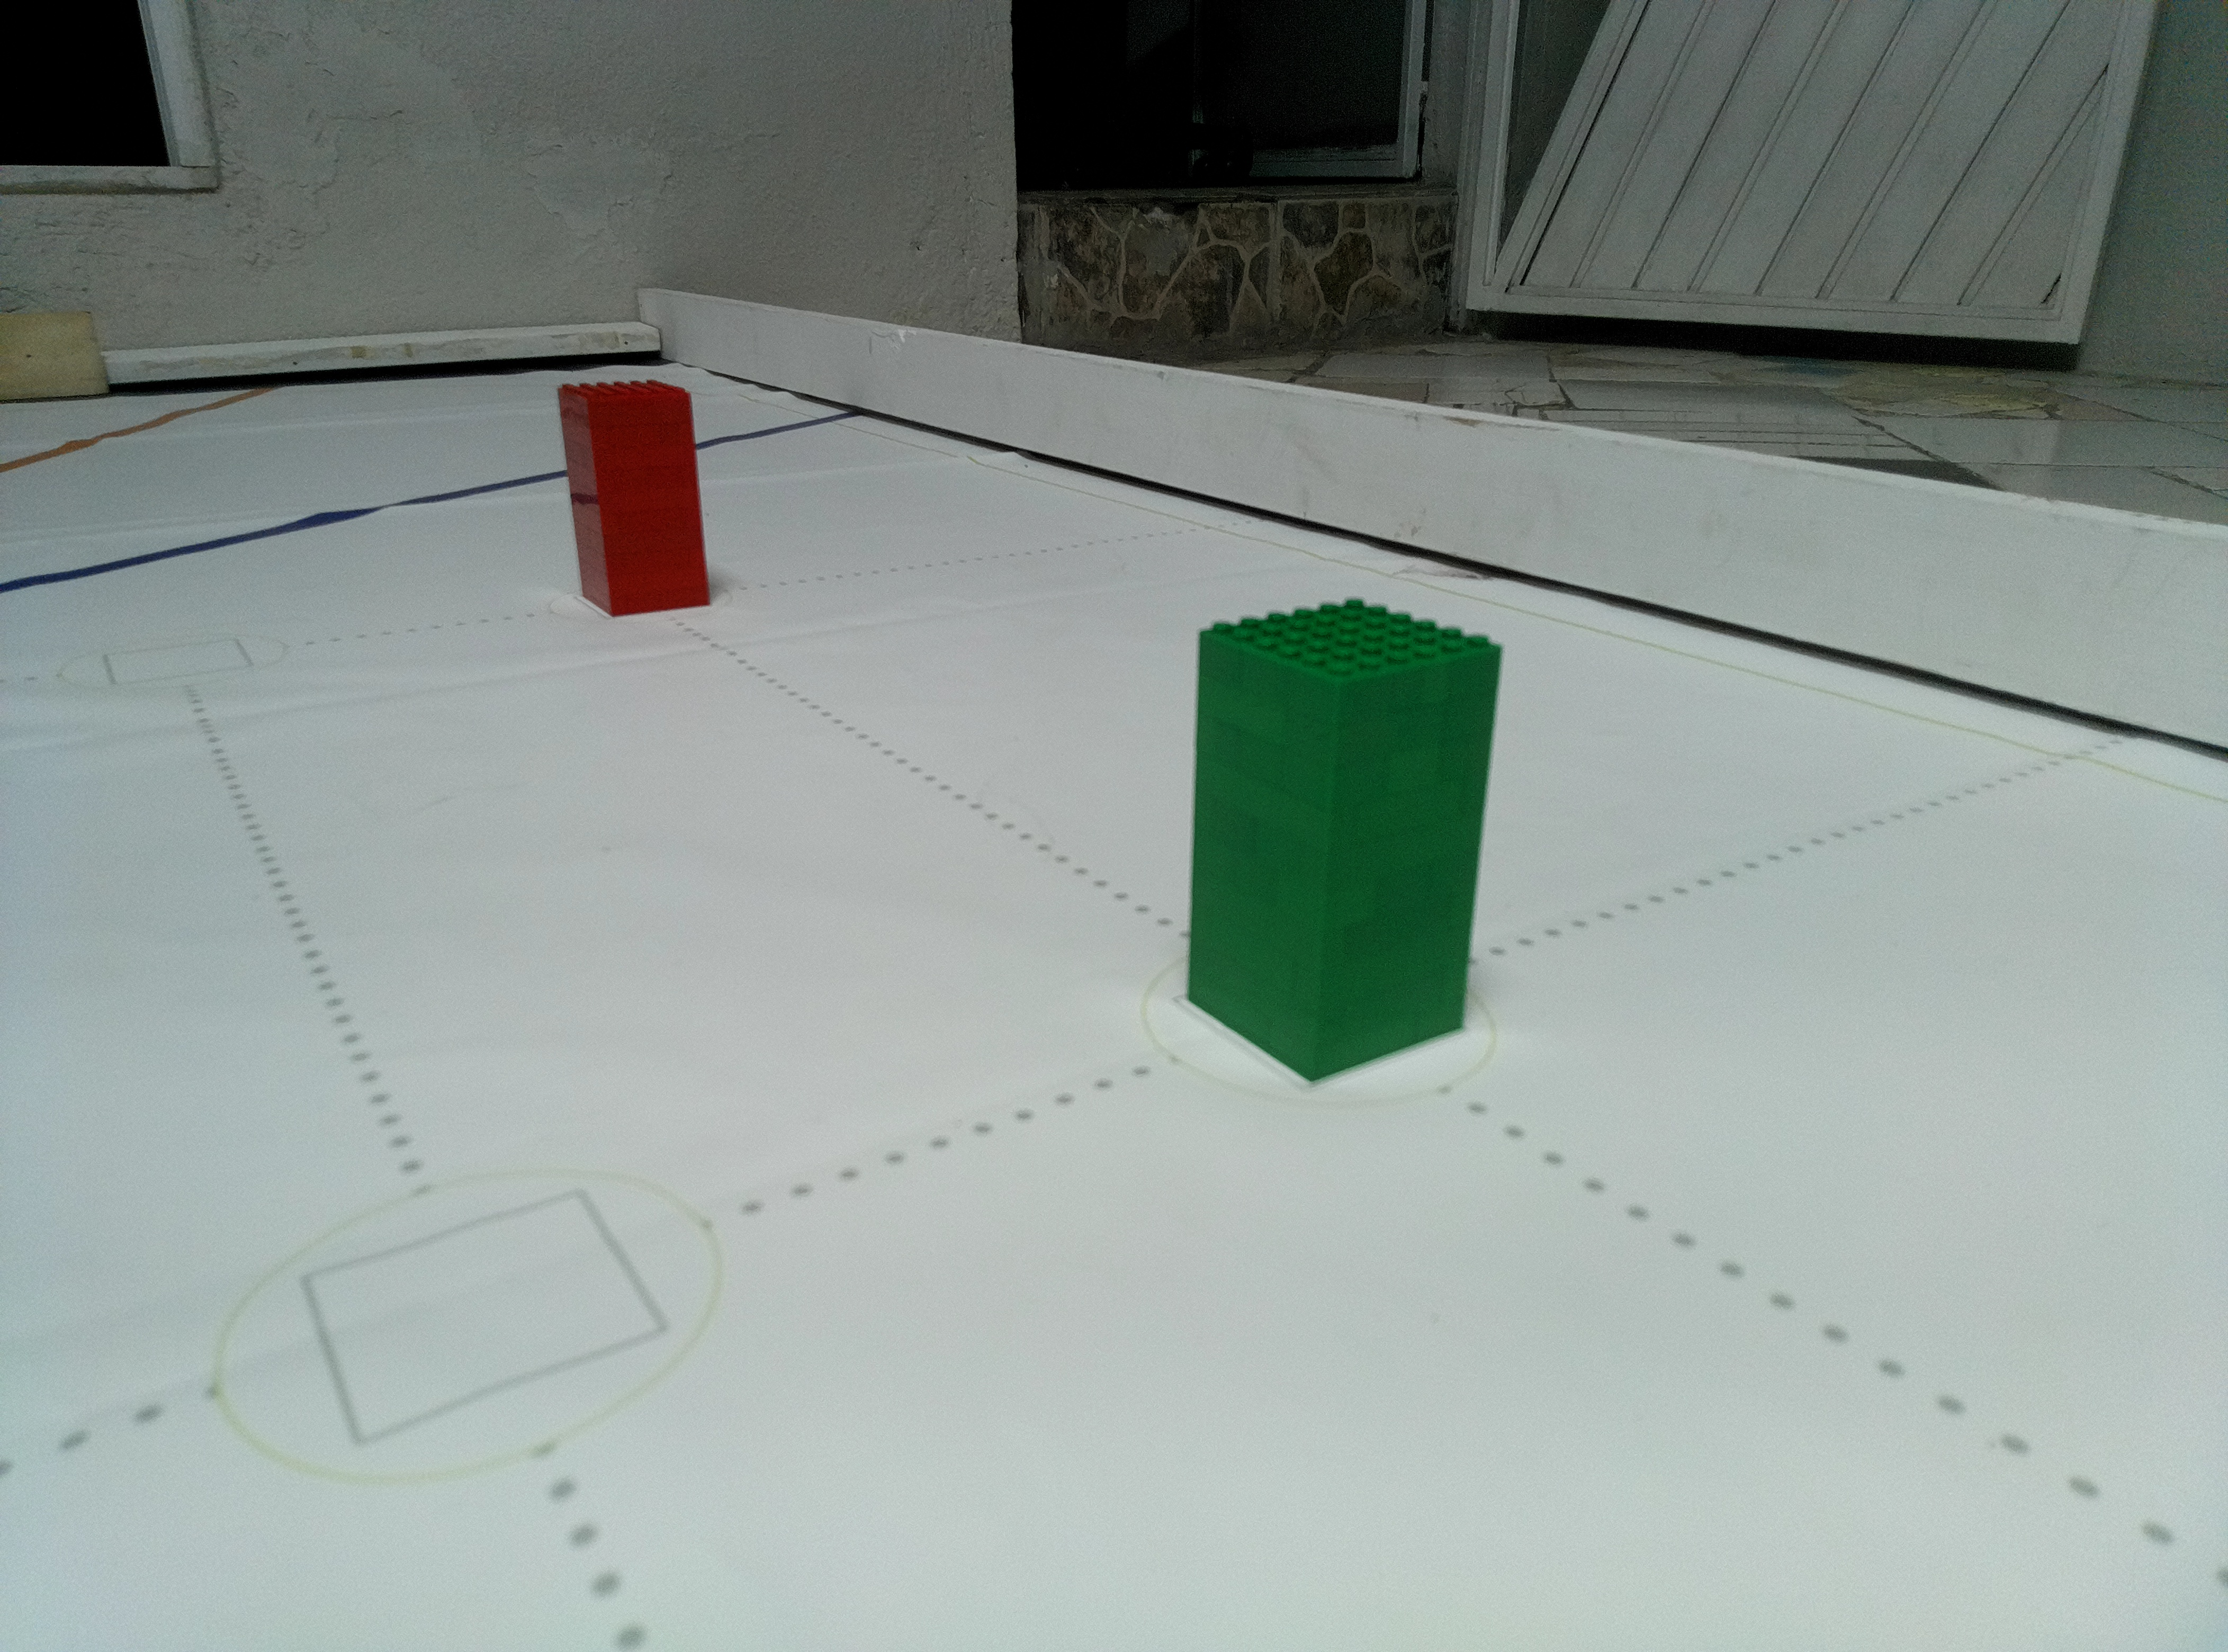greenbox: (1175, 593, 1511, 1091)
redbox: (550, 378, 713, 621)
